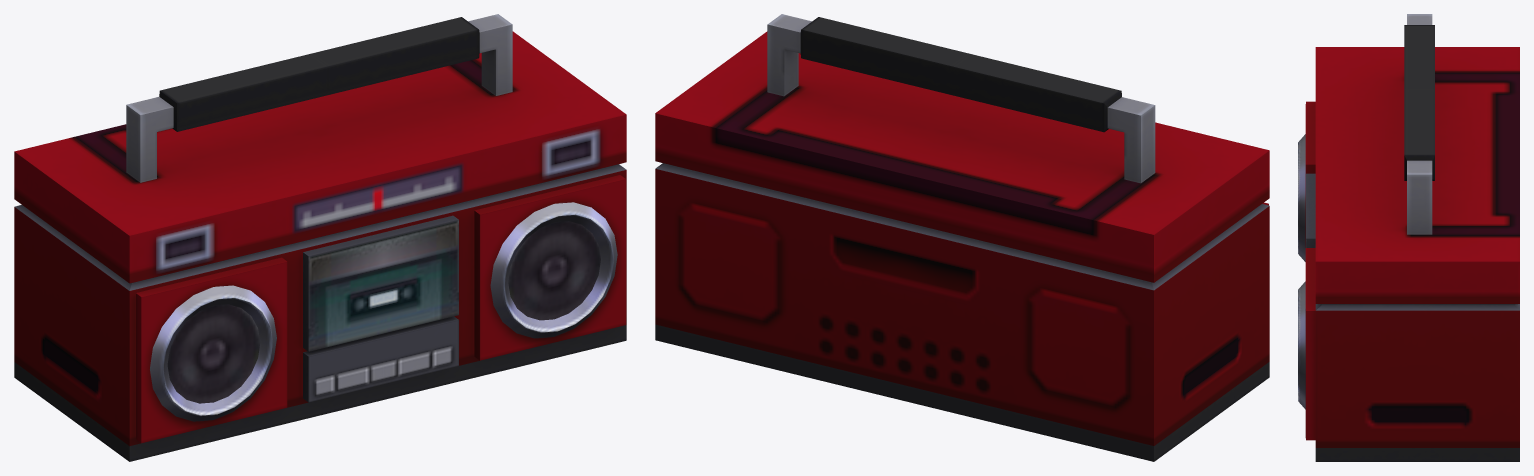
File: leishen02_hi@luyinji.FBX
3 views of the same model, side by side, from view 1: azimuth 30°, elevation 25°; view 2: azimuth 150°, elevation 25°; view 3: azimuth 270°, elevation 25° (orthographic). The views are drawn at different scales.
Parts seen in each view (by area): view 1: leishen02_hi_tape; view 2: leishen02_hi_tape; view 3: leishen02_hi_tape.
Boxes of the visible parts, x1=… form: leishen02_hi_tape: x1=14, y1=14, x2=626, y2=461; leishen02_hi_tape: x1=655, y1=14, x2=1269, y2=461; leishen02_hi_tape: x1=1298, y1=14, x2=1519, y2=461.
Size of the model in its own units: 0.2633 by 0.151 by 0.1149.
